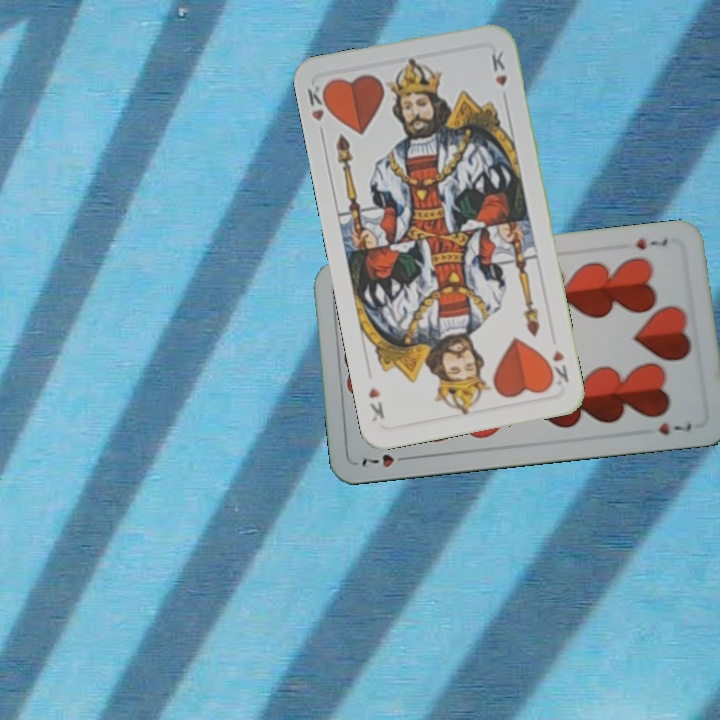H7: (357, 450, 414, 471), (631, 234, 670, 253)
HK: (303, 81, 334, 140), (542, 346, 571, 388)
